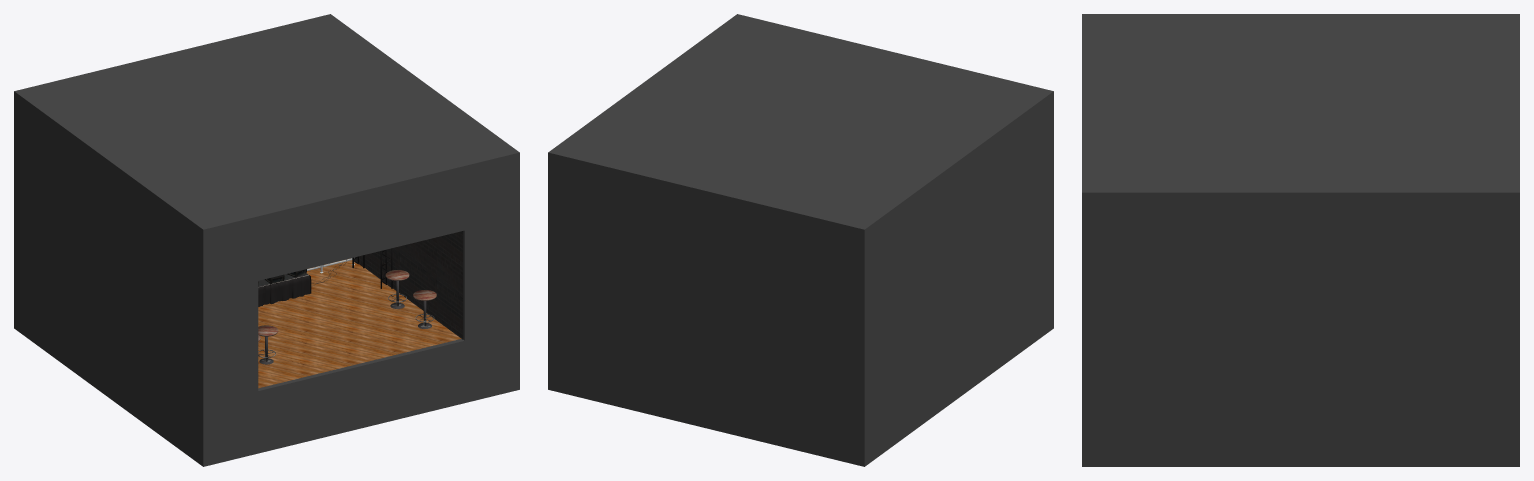
The model's file is every_other_gig_ever_mobile.glb.
3 views of the same model, side by side, from view 1: azimuth 30°, elevation 25°; view 2: azimuth 150°, elevation 25°; view 3: azimuth 270°, elevation 25° (orthographic). The views are drawn at different scales.
Visible parts, largest first — view 1: Boundry, Floor, Left wall.001, Curtain.006; view 2: Boundry; view 3: Boundry.
Boxes of the visible parts, box(x1,y1,x2,y2) form: Boundry: box(14, 14, 519, 466); Floor: box(258, 258, 461, 388); Left wall.001: box(354, 231, 462, 339); Curtain.006: box(258, 275, 310, 306); Boundry: box(548, 14, 1053, 466); Boundry: box(1082, 14, 1519, 466).
Size of the model in its own units: 76.43 by 54.74 by 79.15.
44 materials, 36 textured.
